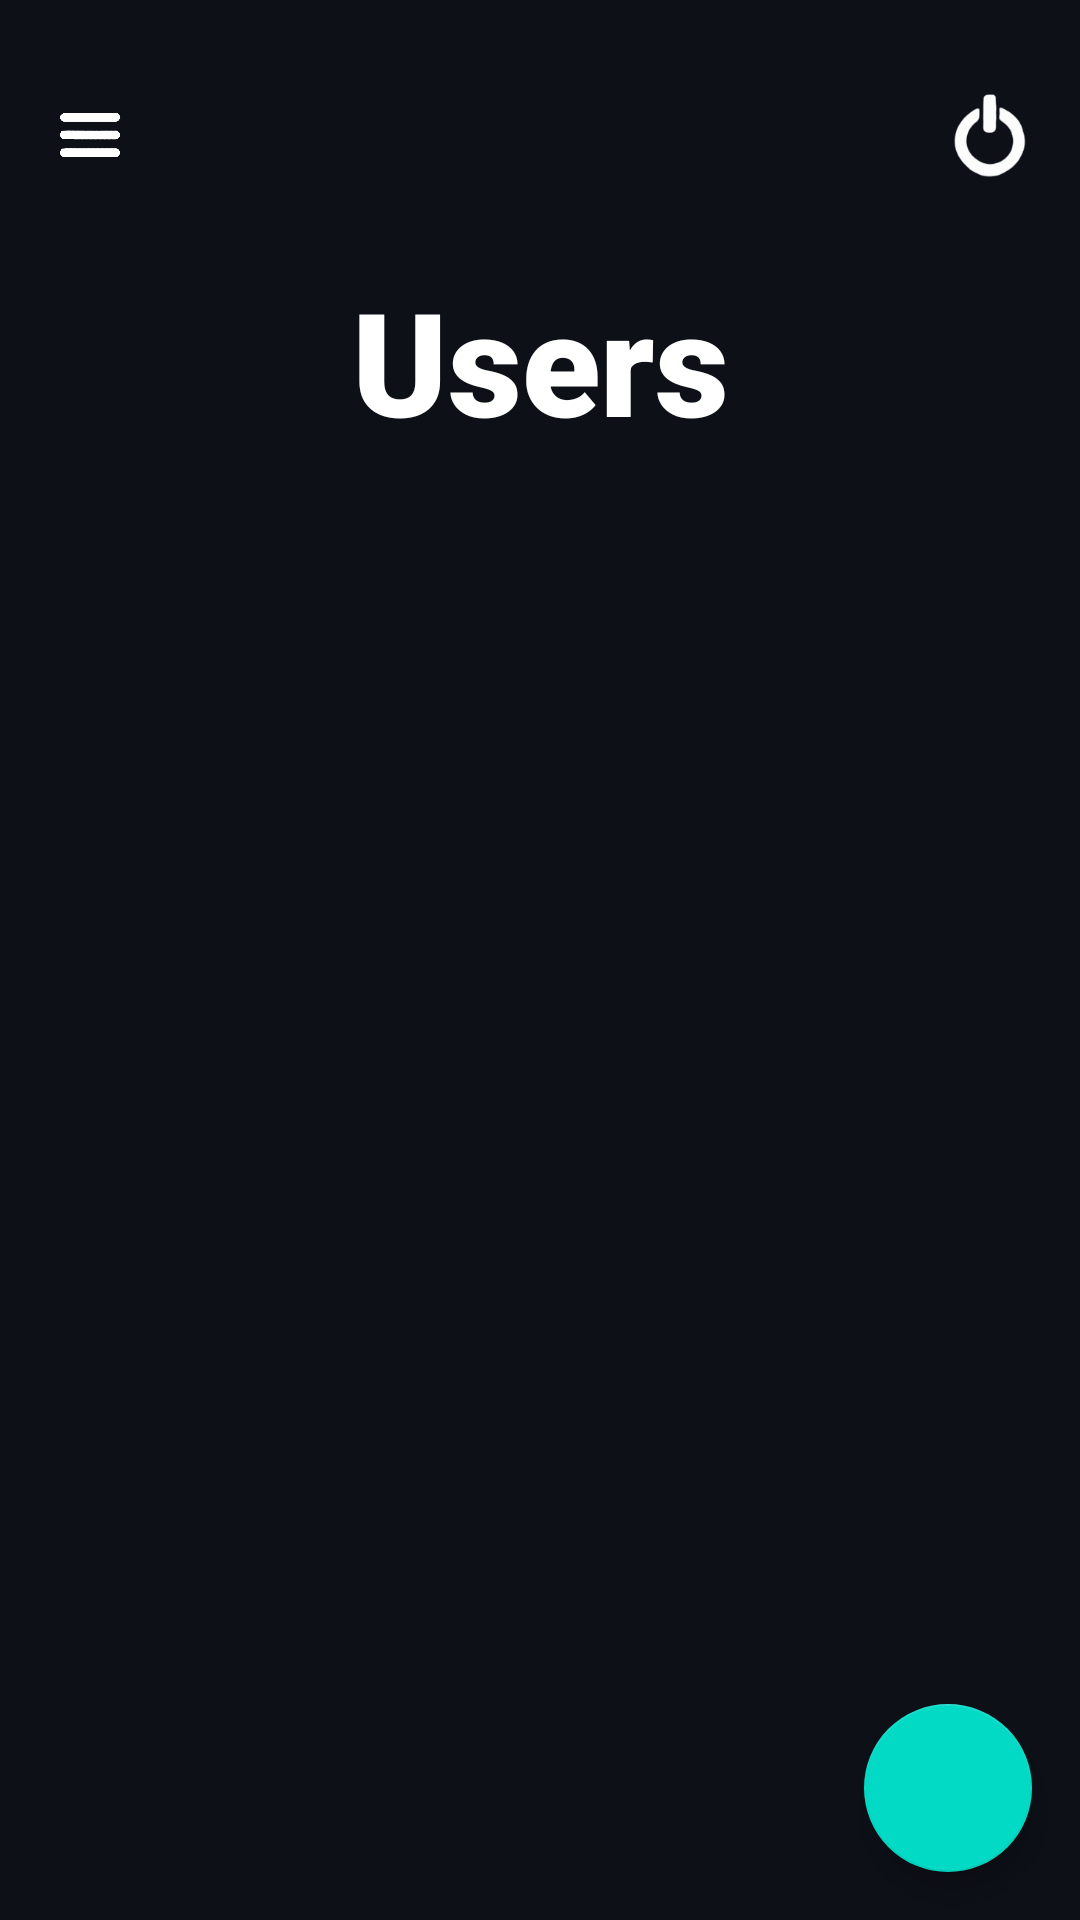

Screen size 1080px x 1920px. Icon name, then its center in pixels as (x=x, y=y):
menu: (x=90, y=135)
